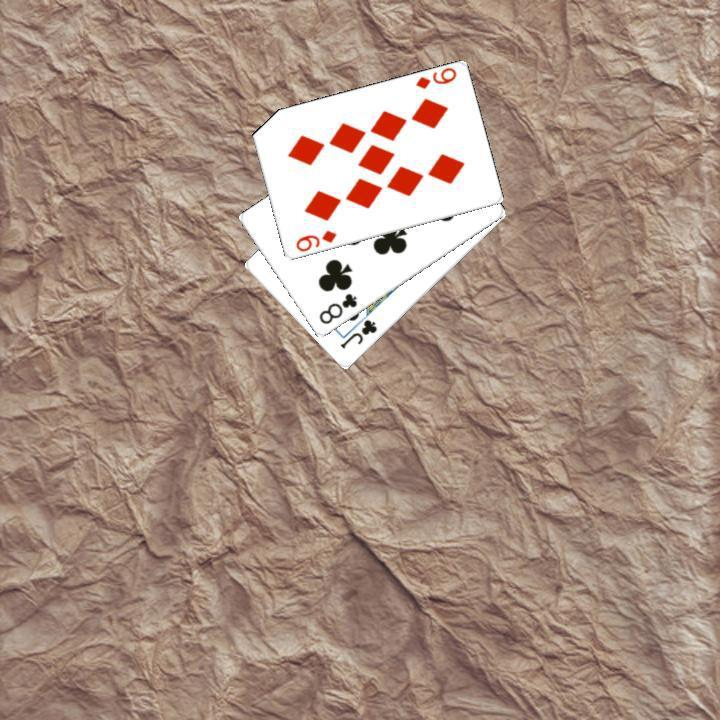8: (314, 289, 359, 327)
9: (291, 226, 338, 254), (411, 64, 458, 92)
J: (336, 315, 379, 351)
